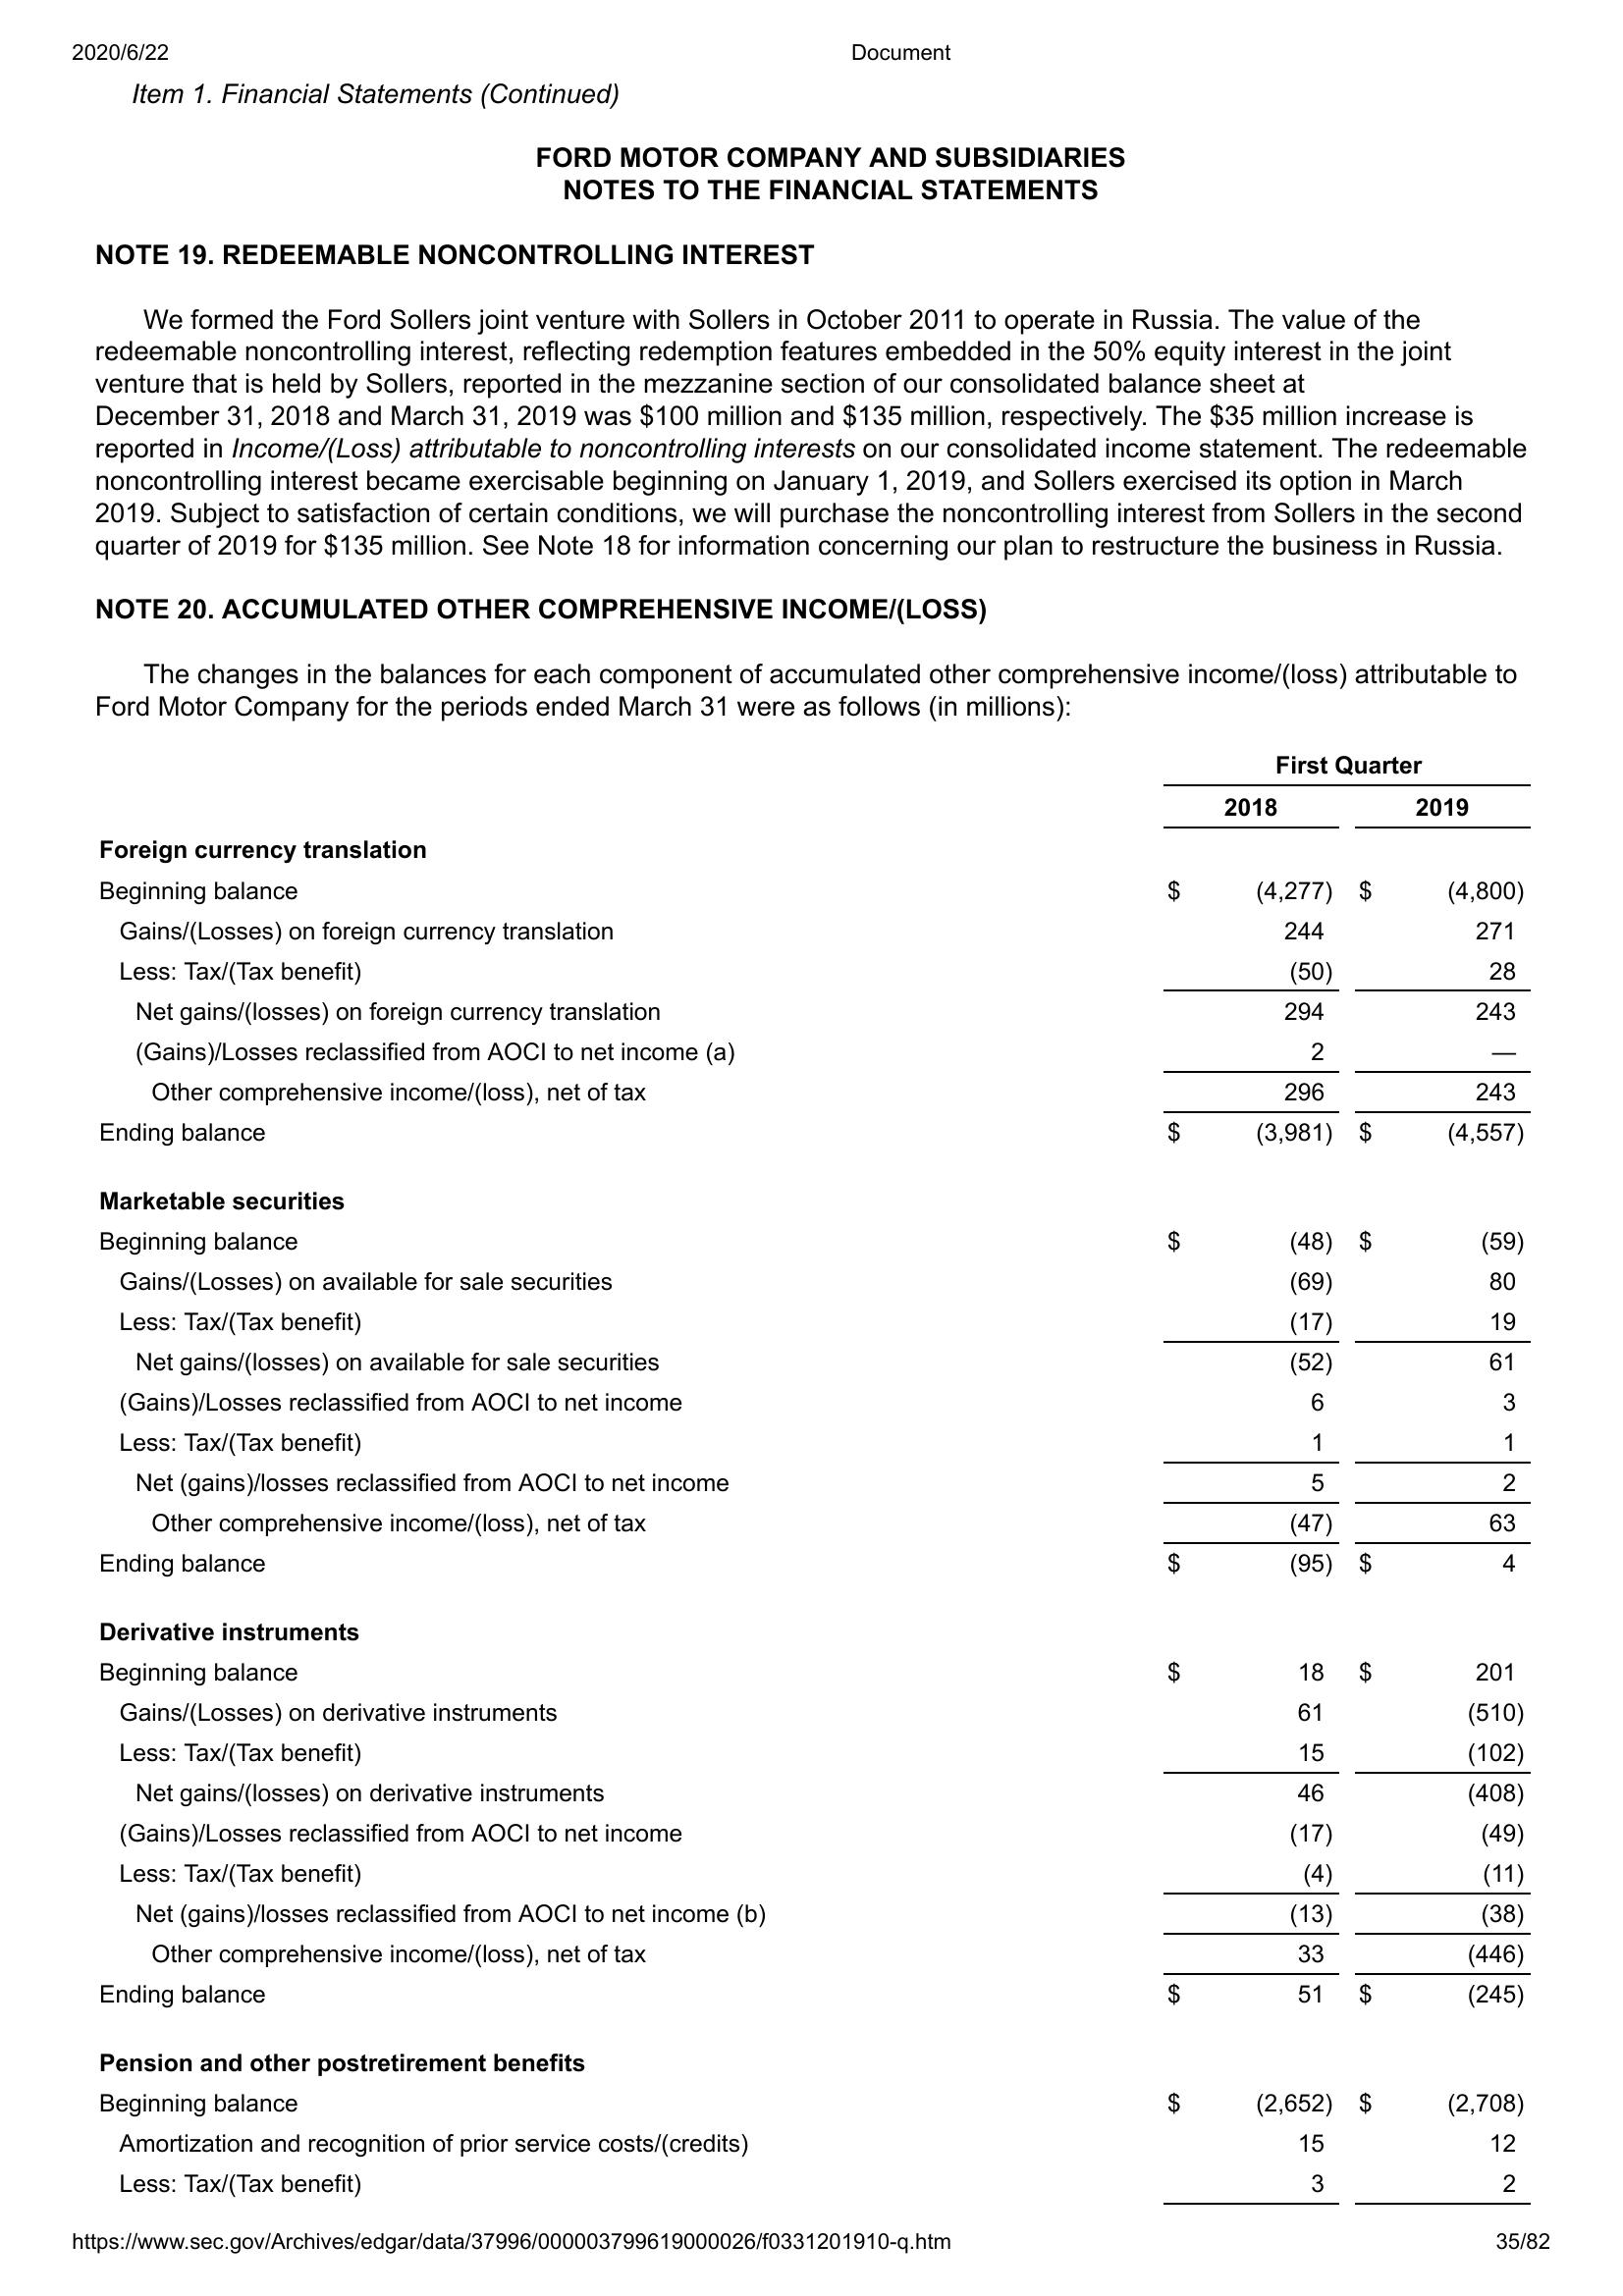table: (83, 744, 1539, 1180), (95, 1604, 1539, 2015), (95, 1183, 1535, 1583), (97, 2043, 1535, 2208)
